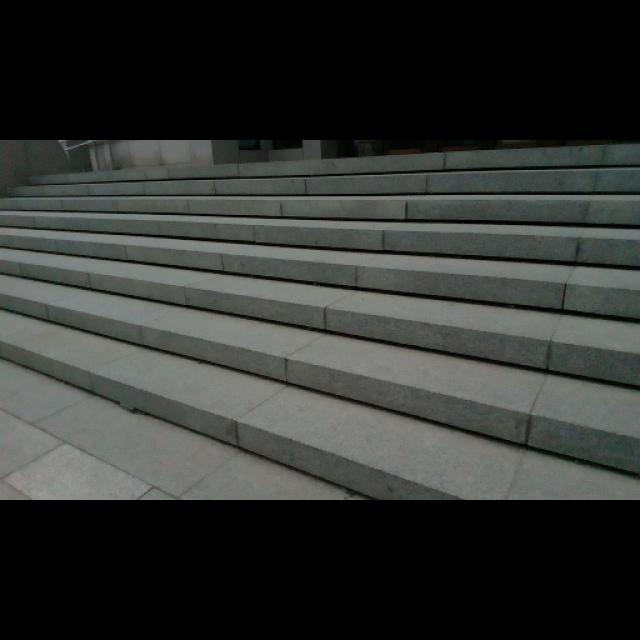stair: (0, 141, 639, 498)
